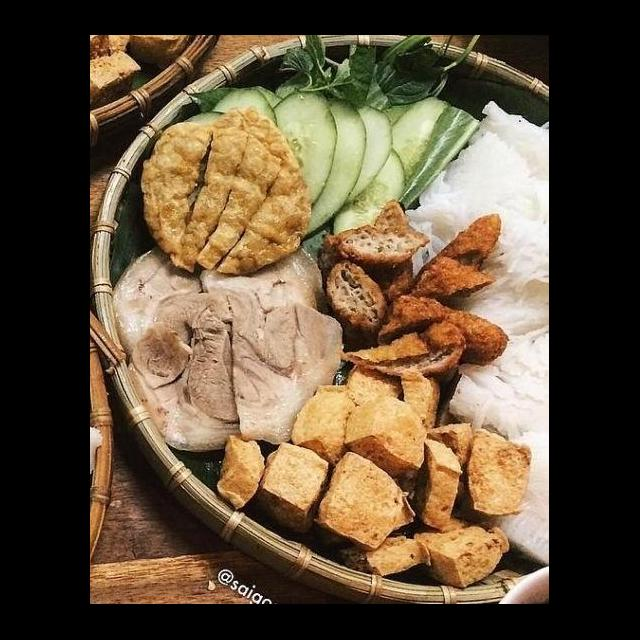bun: (398, 91, 550, 572)
bun dau: (96, 77, 549, 604)
cha com: (314, 194, 514, 384), (132, 102, 316, 282)
dau hu: (312, 446, 418, 550), (404, 508, 514, 590), (342, 390, 431, 480), (341, 358, 442, 436), (256, 440, 336, 538), (462, 424, 538, 520), (286, 379, 361, 474), (410, 431, 466, 536), (334, 530, 436, 582), (210, 432, 272, 516)
thit heo: (220, 288, 350, 452), (122, 284, 242, 456), (192, 237, 332, 336), (109, 242, 218, 366)
